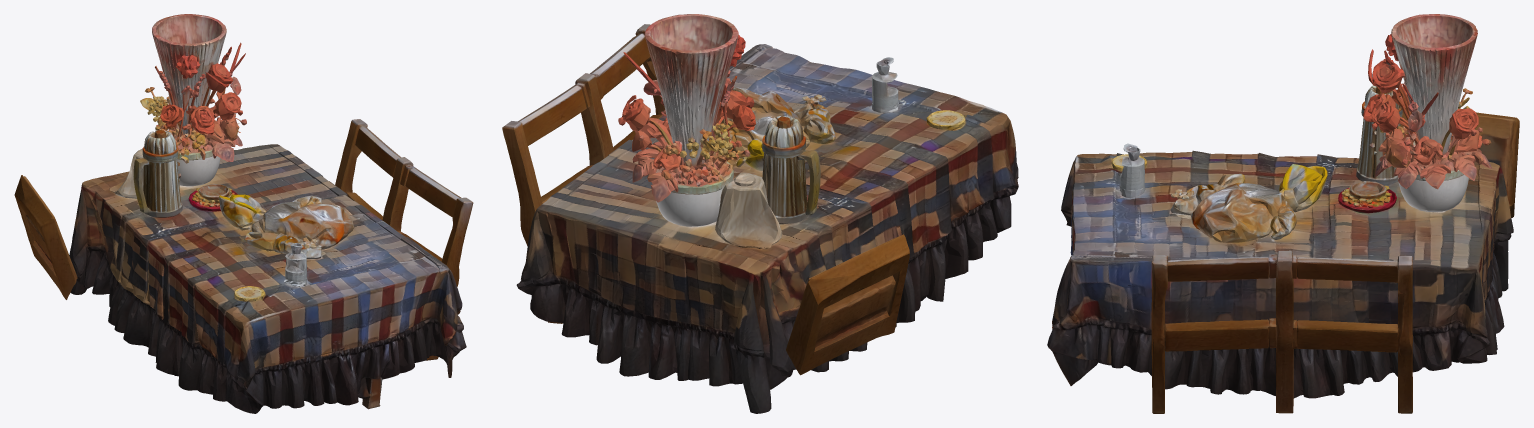
File: 餐桌_独立彩色.glb
3 renders of one model, left to right at view 1: azimuth 30°, elevation 25°; view 2: azimuth 150°, elevation 25°; view 3: azimuth 270°, elevation 25°, orthographic. The views are drawn at different scales.
Parts seen in each view (by area): view 1: model; view 2: model; view 3: model.
Boxes of the visible parts, box(x1,y1,x2,y2) form: model: box(14, 14, 473, 413); model: box(502, 14, 1018, 413); model: box(1047, 14, 1519, 413).
Size of the model in its own units: 1.74 by 1.38 by 1.9.
1 material, 1 textured.
